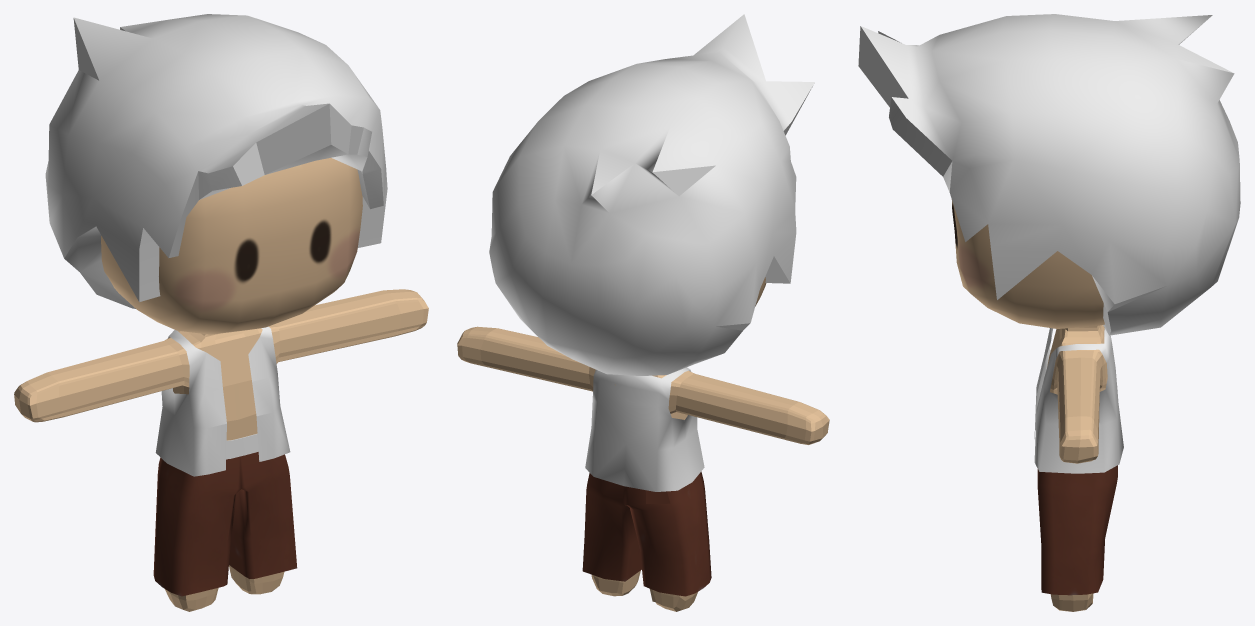
The model's file is npc_laki-1.fbx.
3 views of the same model, side by side, from view 1: azimuth 30°, elevation 25°; view 2: azimuth 150°, elevation 25°; view 3: azimuth 270°, elevation 25° (orthographic). The views are drawn at different scales.
Parts seen in each view (by area): view 1: ML_uh, kepala, badan, celana_Puntung, atasan_Kaos_tanpa_lengan, celana_Puntung6; view 2: ML_uh, badan, celana_Puntung, atasan_Kaos_tanpa_lengan; view 3: ML_uh, celana_Puntung, kepala, badan, atasan_Kaos_tanpa_lengan.
Part boxes in pixels (<box>): ML_uh: <box>45,14,387,308</box>; kepala: <box>101,158,362,334</box>; badan: <box>14,289,428,611</box>; celana_Puntung: <box>153,452,297,596</box>; atasan_Kaos_tanpa_lengan: <box>155,326,290,476</box>; celana_Puntung6: <box>226,433,258,459</box>; ML_uh: <box>489,14,814,375</box>; badan: <box>457,326,829,611</box>; celana_Puntung: <box>582,471,711,596</box>; atasan_Kaos_tanpa_lengan: <box>585,367,704,491</box>; ML_uh: <box>858,14,1240,335</box>; celana_Puntung: <box>1037,465,1117,595</box>; kepala: <box>951,199,1104,328</box>; badan: <box>1047,325,1107,611</box>; atasan_Kaos_tanpa_lengan: <box>1034,328,1123,473</box>.
Bounding box in the file's own units: 10.57 × 14.42 × 8.83.
